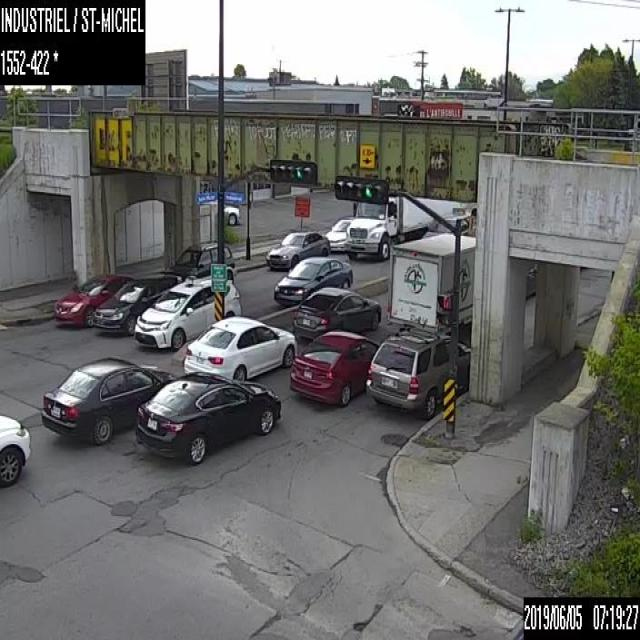vehicle: (136, 372, 280, 462), (40, 354, 178, 444), (387, 230, 476, 334), (366, 332, 469, 415), (346, 194, 473, 259), (134, 274, 240, 347), (184, 316, 296, 383), (290, 328, 380, 406), (93, 274, 181, 335), (292, 285, 381, 341), (53, 273, 131, 326), (274, 256, 352, 306), (167, 242, 233, 282), (266, 230, 329, 268), (0, 412, 29, 485), (325, 215, 352, 253), (203, 199, 239, 225), (294, 193, 309, 233)
